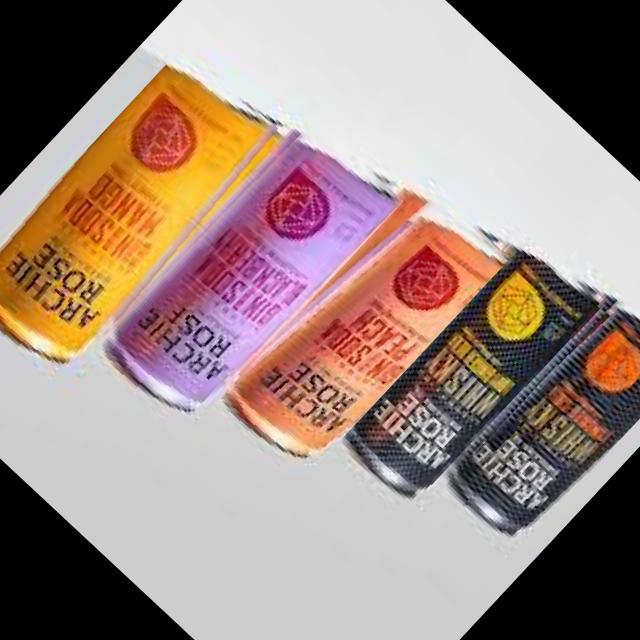Cans: (88, 112, 402, 438), (0, 41, 291, 389), (205, 165, 512, 480), (326, 228, 605, 516), (428, 271, 640, 554)
